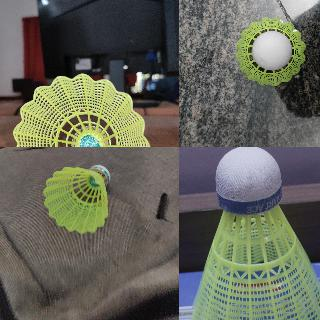shuttlecock: (190, 147, 319, 319), (11, 73, 149, 146), (236, 17, 304, 85), (43, 164, 109, 233)
